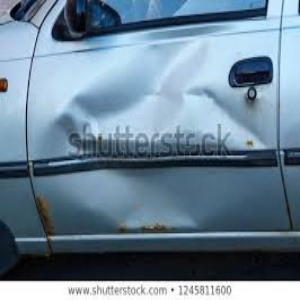door: (49, 56, 246, 132)
